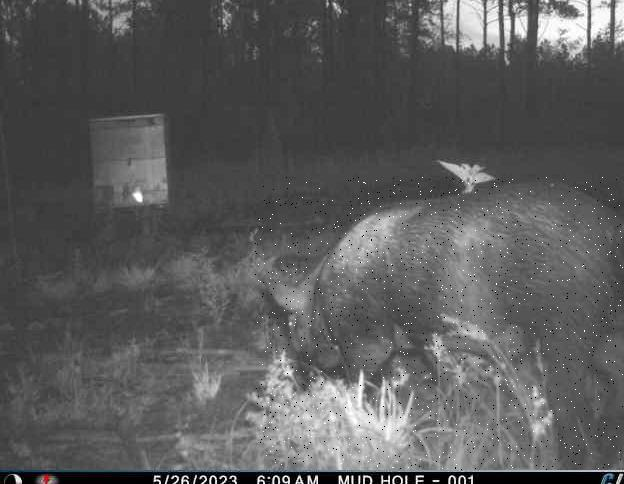Hog: (255, 177, 624, 470)
